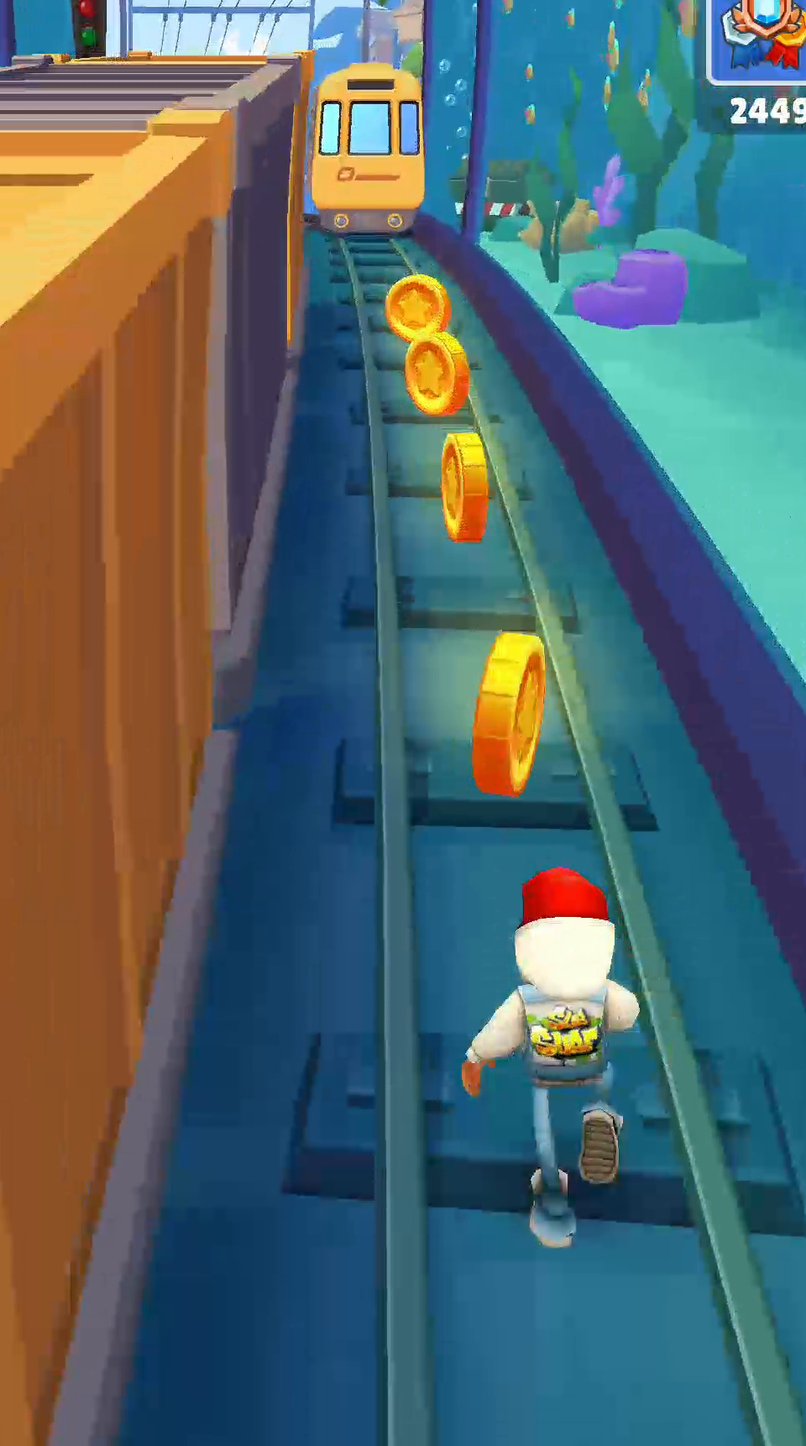train: (0, 107, 243, 1445), (0, 55, 302, 637), (308, 62, 424, 237)
